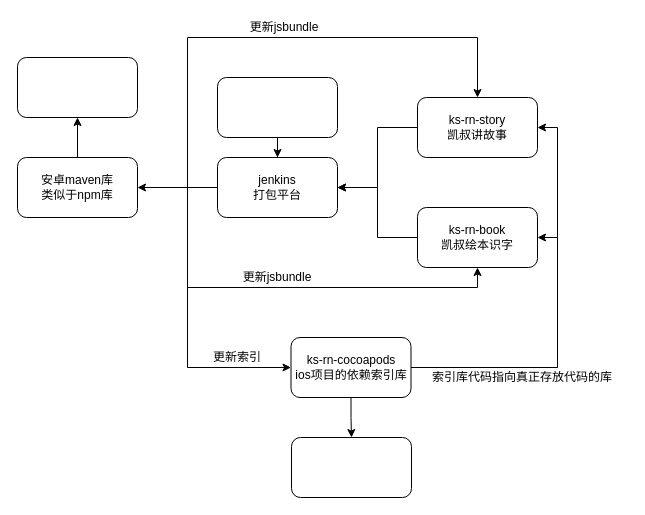
This 645x515 diagram has some shape labels left out. Here are the shapes that lost their labels. From the top down, the centre of each, then its label:
At [77,87]: "android项目".
At [277,107]: "ks-rn-jenkins 打包脚本".
At [351,467]: "ios项目".
